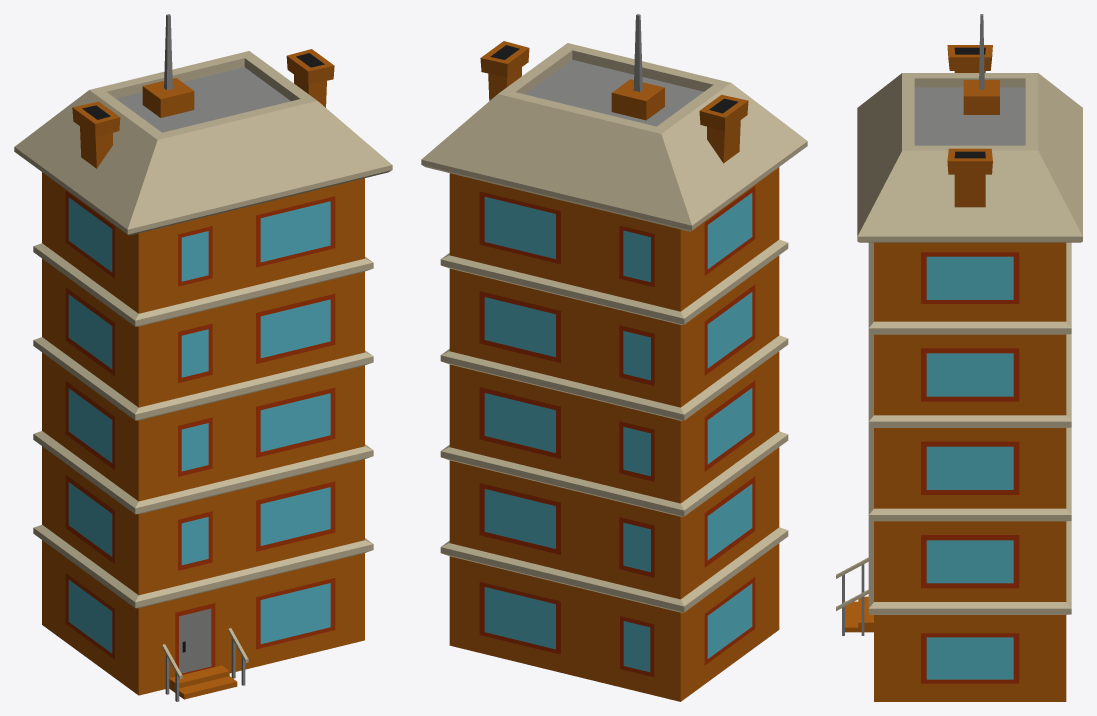
The model's file is House 4.3.fbx.
3 views of the same model, side by side, from view 1: azimuth 30°, elevation 25°; view 2: azimuth 150°, elevation 25°; view 3: azimuth 270°, elevation 25° (orthographic). The views are drawn at different scales.
Visible parts, largest first — view 1: House_03; view 2: House_03; view 3: House_03.
Part boxes in pixels (left/top/right/bottom): House_03: left=14, top=14, right=392, bottom=701; House_03: left=421, top=14, right=807, bottom=701; House_03: left=836, top=14, right=1082, bottom=701.
Bounding box in the file's own units: 393 × 880 × 319.
